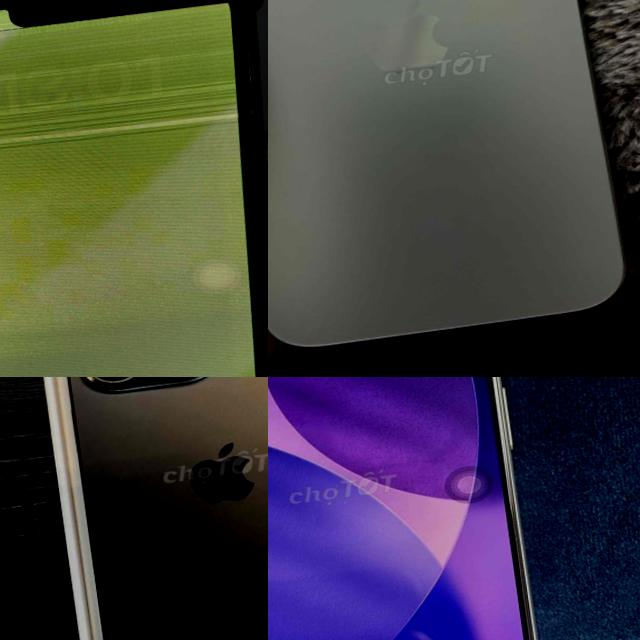gen_12_13: (0, 0, 268, 377)
gen_15: (268, 0, 640, 377), (268, 377, 562, 640), (34, 377, 268, 640)
screen_defect: (0, 132, 258, 306), (0, 0, 241, 165), (0, 275, 268, 377)
